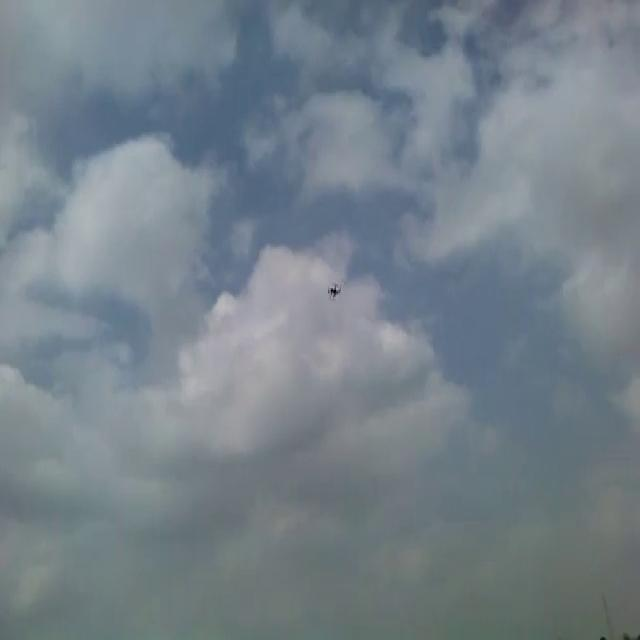drone: (324, 278, 342, 302)
